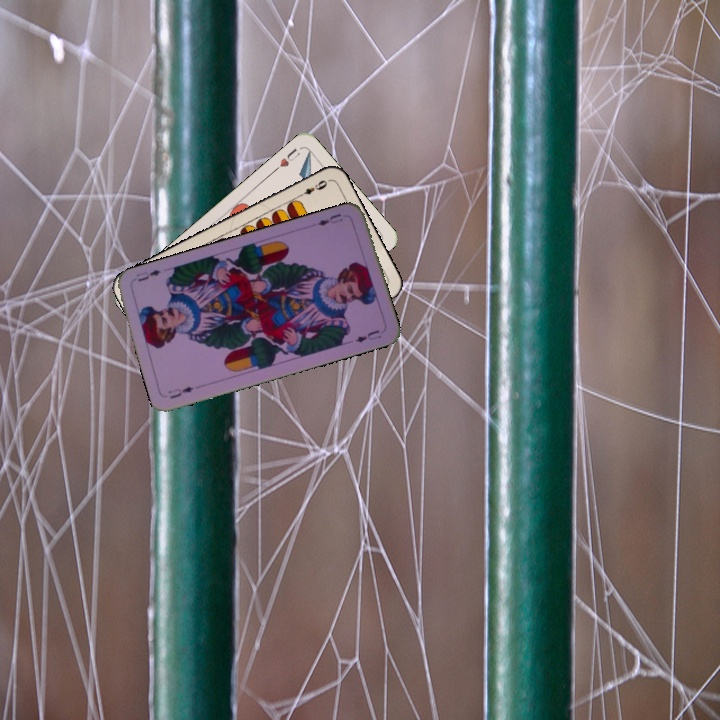E9: (294, 176, 331, 200)
EU: (164, 382, 196, 401), (314, 210, 345, 228)
HU: (270, 144, 303, 174)
